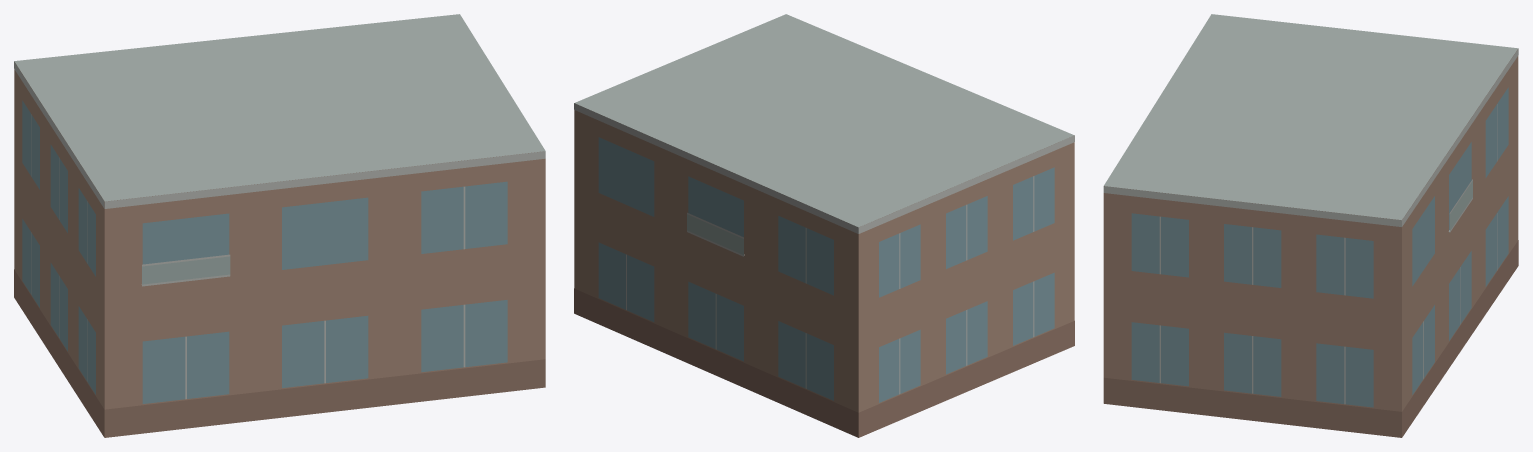
File: survey-upis-32993721.glb
The picture shows the model from 3 angles, left to right: view 1: azimuth 30°, elevation 25°; view 2: azimuth 150°, elevation 25°; view 3: azimuth 270°, elevation 25°; orthographic projection. The views are drawn at different scales.
Parts seen in each view (by area): view 1: survey-upis-32993721.tmp; view 2: survey-upis-32993721.tmp; view 3: survey-upis-32993721.tmp.
Boxes of the visible parts, bbox=[...] form: survey-upis-32993721.tmp: bbox=[14, 14, 545, 437]; survey-upis-32993721.tmp: bbox=[574, 14, 1074, 437]; survey-upis-32993721.tmp: bbox=[1103, 14, 1518, 437].
Bounding box in the file's own units: 15.44 × 7.6 × 13.13.
